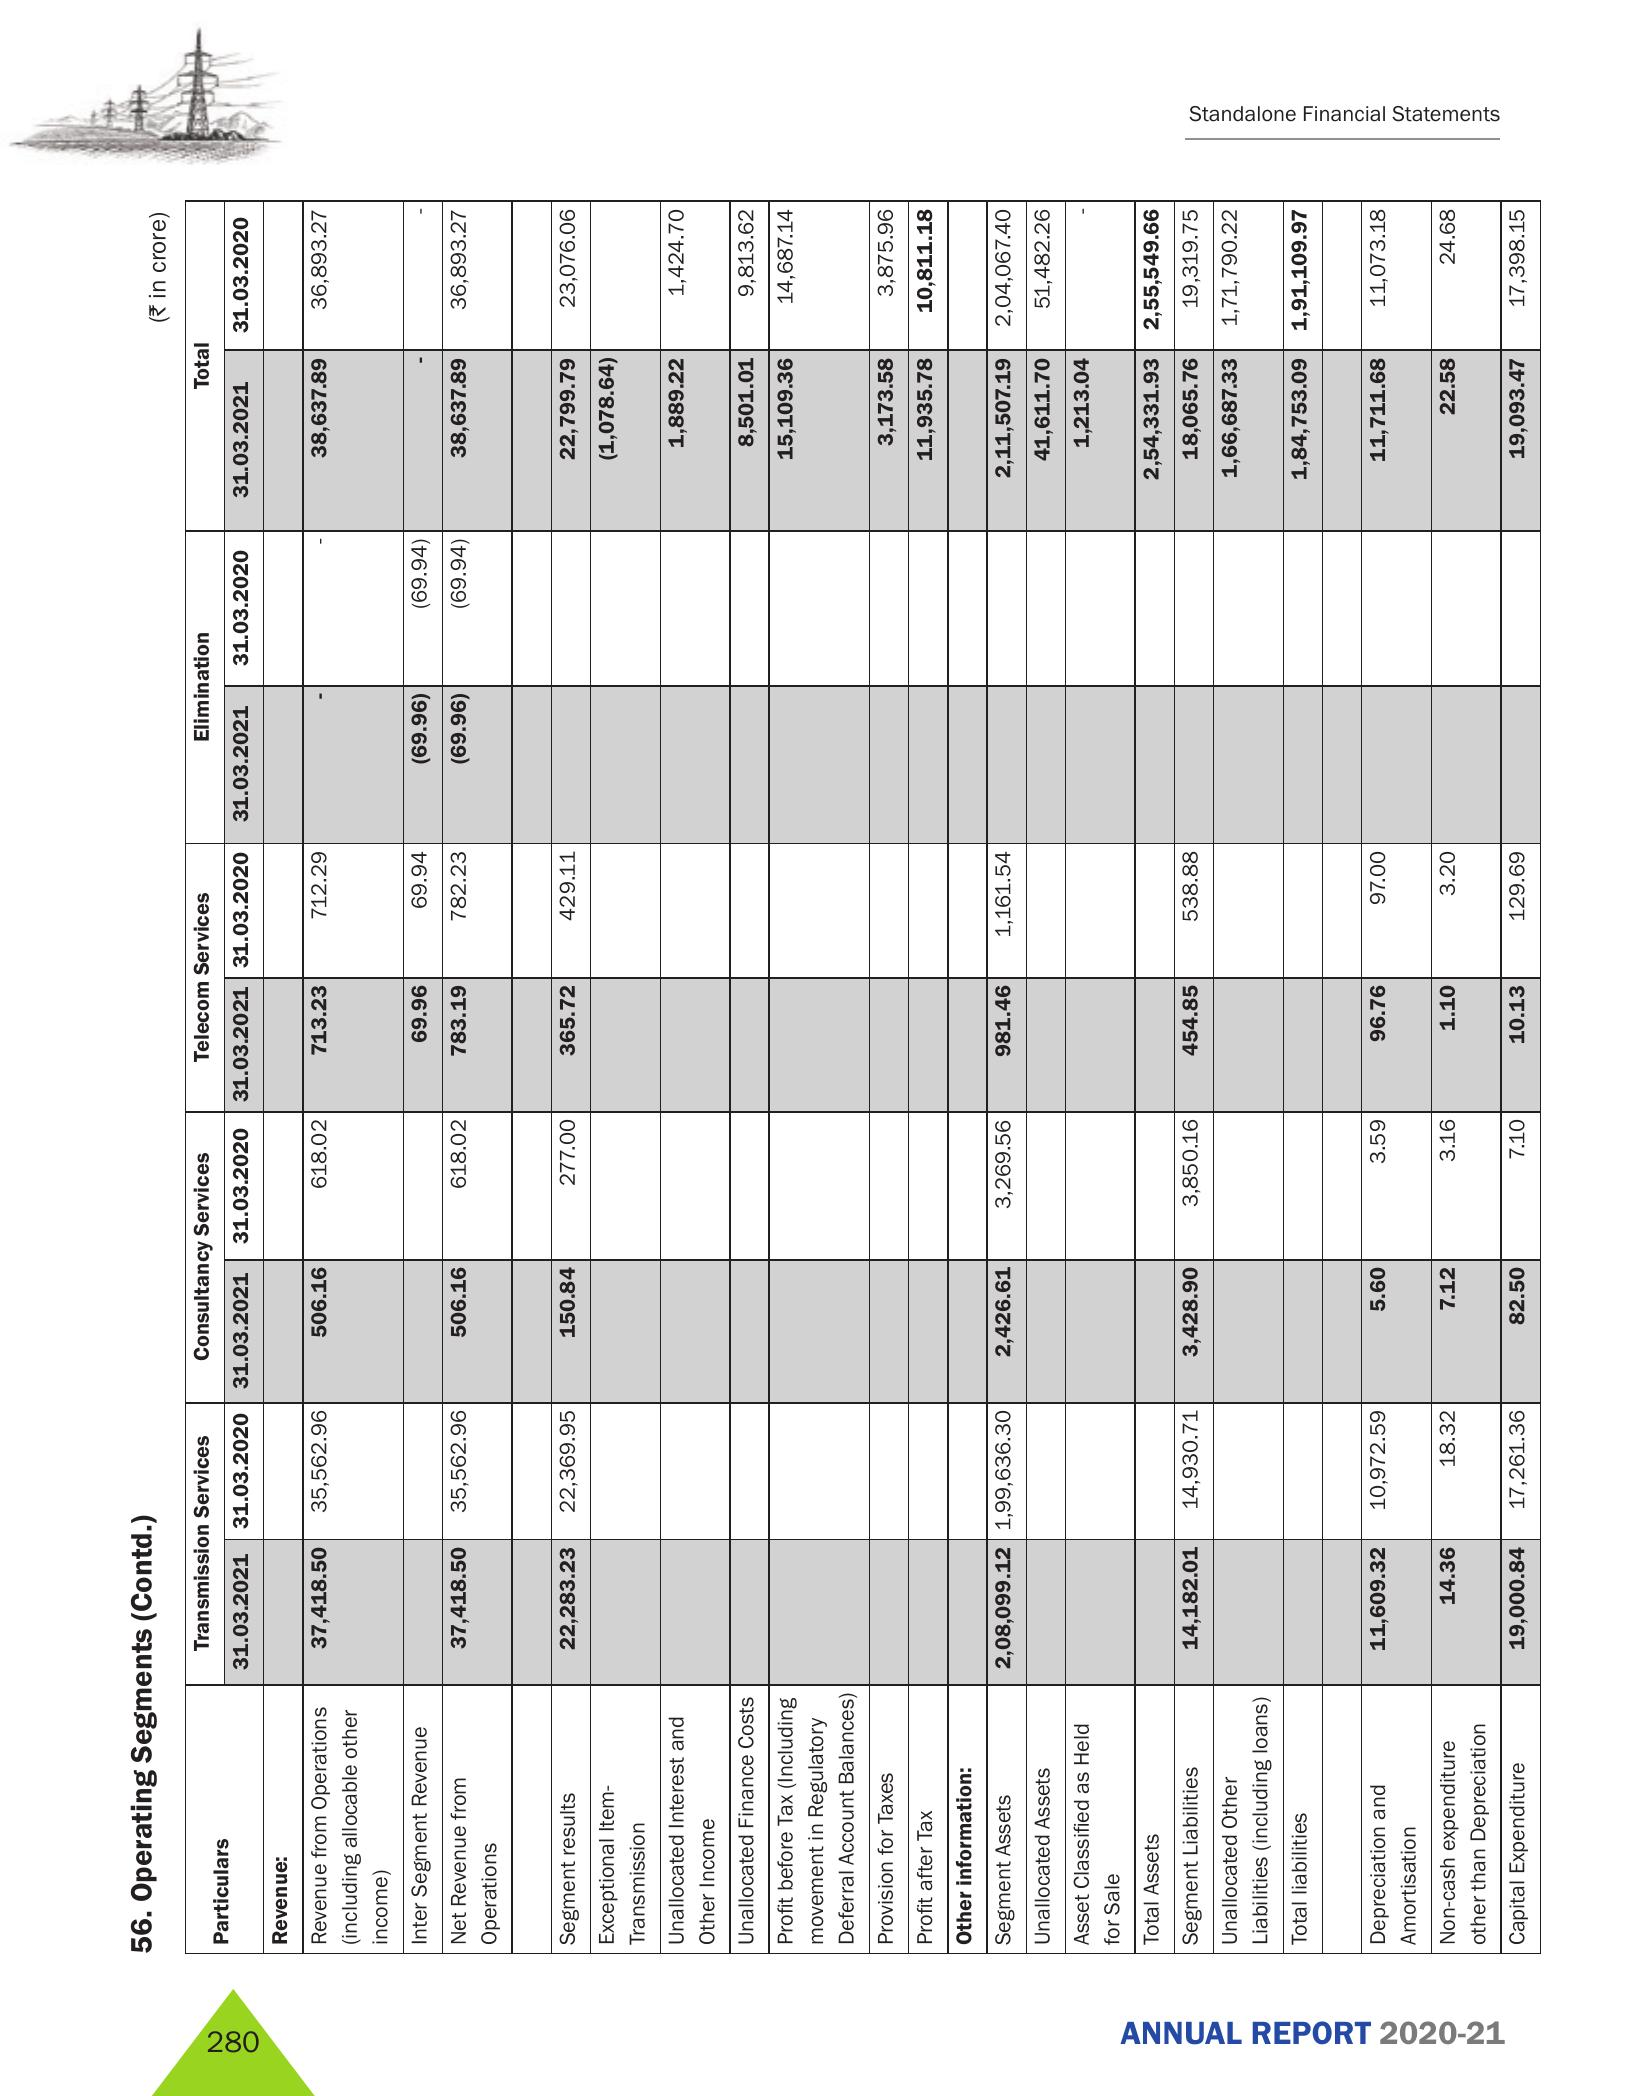Footer: (0, 1962, 1650, 2096)
Header: (0, 0, 1650, 175)
Table: (184, 201, 1580, 1979)
